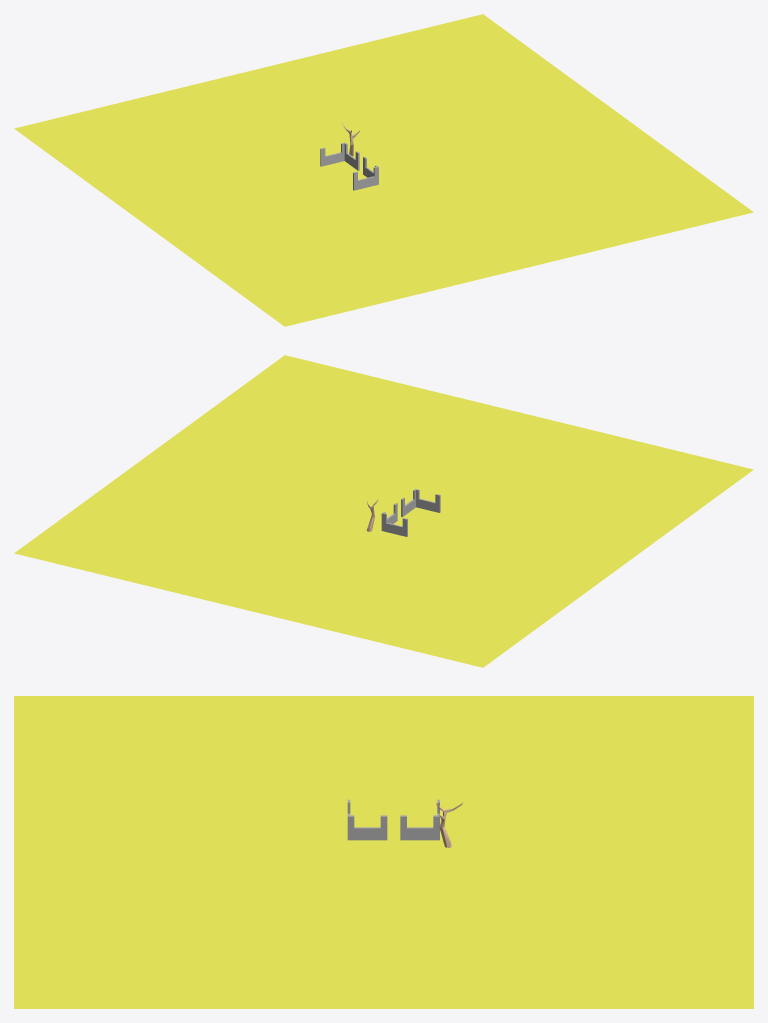
Rendered from map.glb.
The picture shows the model from 3 angles, top to bottom: view 1: azimuth 30°, elevation 25°; view 2: azimuth 150°, elevation 25°; view 3: azimuth 270°, elevation 25°; orthographic projection. The views are drawn at different scales.
Visible parts, largest first — view 1: Ground; view 2: Ground; view 3: Ground.
Boxes of the visible parts, x1,y1,x2,y2 form: Ground: (14, 14, 753, 326); Ground: (14, 355, 753, 667); Ground: (14, 696, 753, 1008).
Bounding box in the file's own units: 112 × 7.94 × 112.
Materials: 3 (1 with a texture image).
